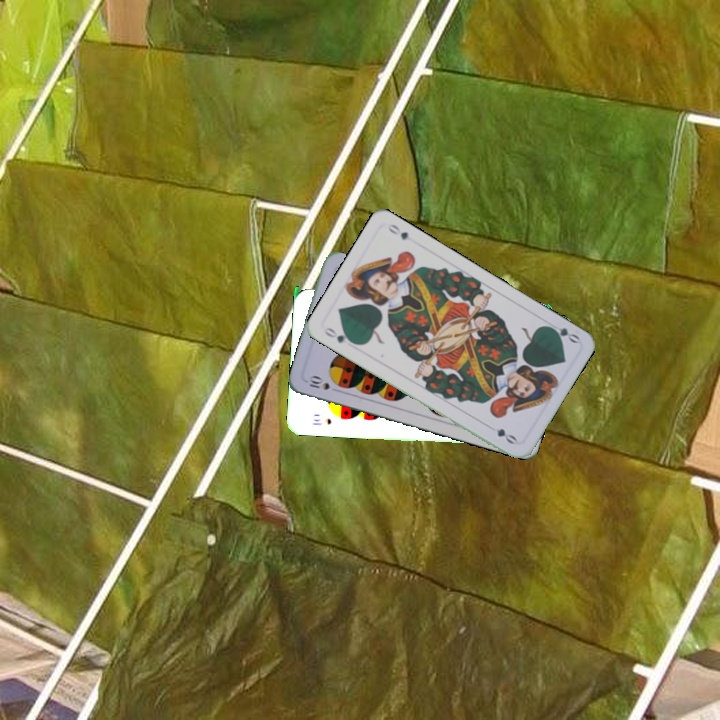GO: (542, 322, 582, 346), (320, 323, 358, 347)
S10: (305, 372, 332, 393), (308, 414, 334, 428)
